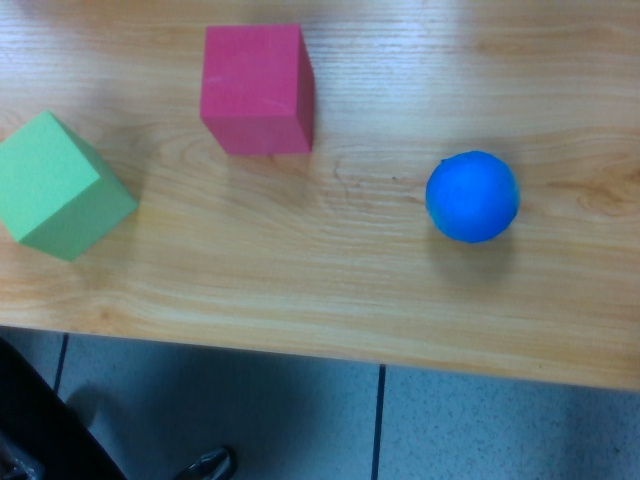blueball: (428, 149, 518, 242)
green: (4, 111, 138, 260)
red: (199, 25, 316, 155)
